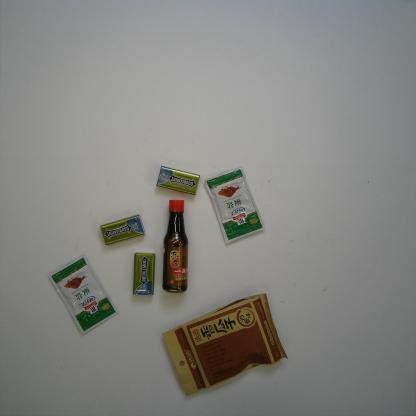Dried Food: (161, 292, 288, 398)
Gum: (100, 214, 145, 245), (156, 166, 200, 196), (132, 252, 155, 296)
Seasoner: (48, 254, 119, 336), (204, 166, 264, 244), (161, 199, 189, 294)
